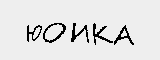А: (115, 23, 134, 49)
И: (71, 22, 90, 45)
К: (92, 23, 111, 49)
О: (44, 23, 66, 42)
Ю: (24, 22, 43, 45)
